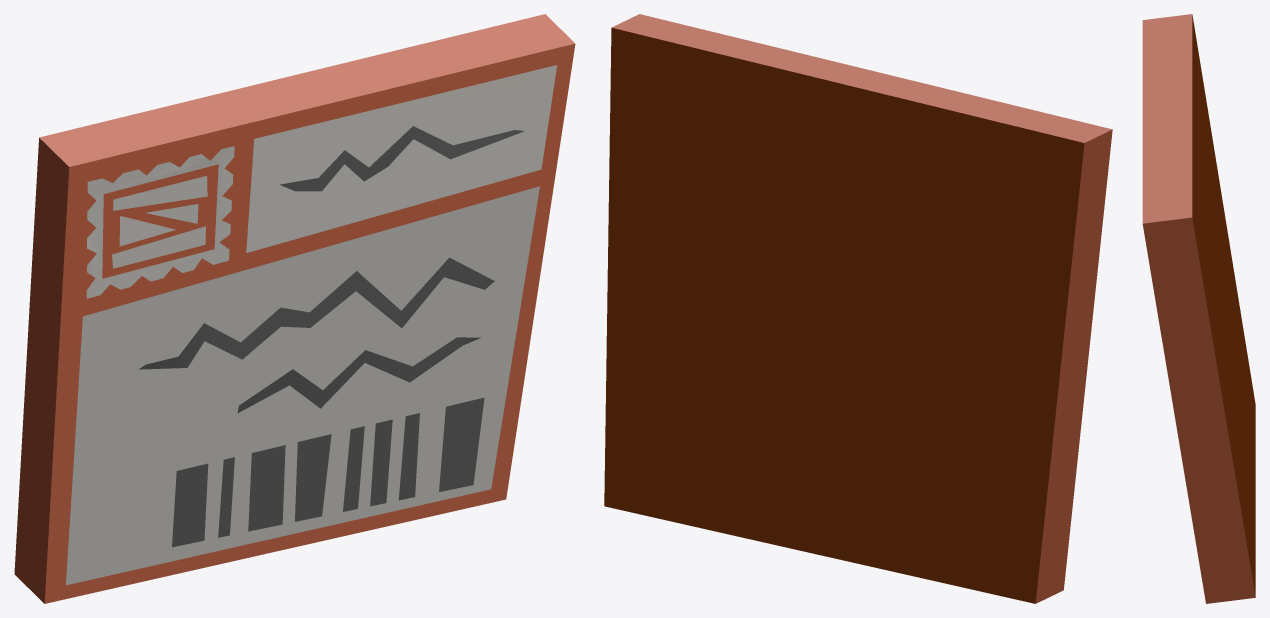
File: tonOfFunOrderForm.glb
3 renders of one model, left to right at view 1: azimuth 30°, elevation 25°; view 2: azimuth 150°, elevation 25°; view 3: azimuth 270°, elevation 25°, orthographic. The views are drawn at different scales.
Visible parts, largest first — view 1: tonOfFunOrderForm; view 2: tonOfFunOrderForm; view 3: tonOfFunOrderForm.
Boxes of the visible parts, bbox=[...] form: tonOfFunOrderForm: bbox=[14, 14, 575, 603]; tonOfFunOrderForm: bbox=[604, 14, 1112, 603]; tonOfFunOrderForm: bbox=[1142, 14, 1255, 603].
Size of the model in its own units: 0.7469 by 0.6824 by 0.1777.
